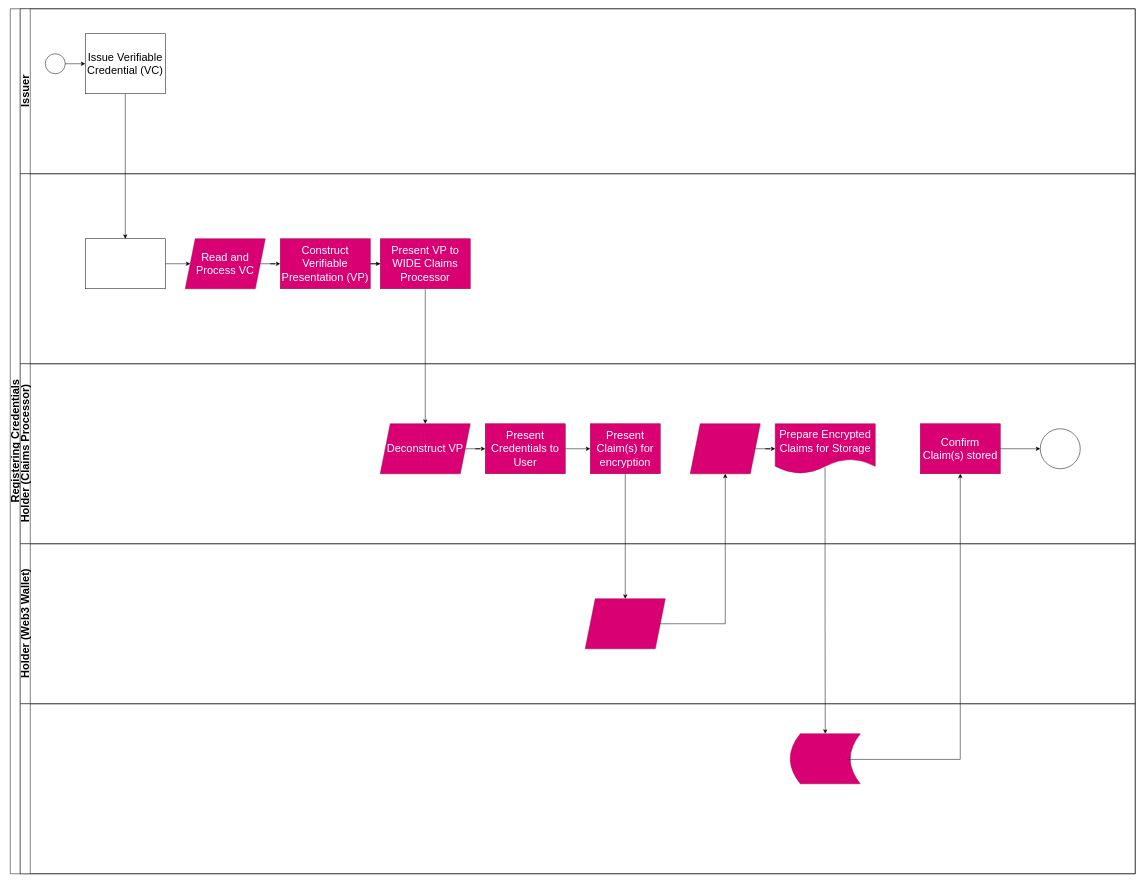
This 1144x883 diagram has some shape labels left out. Here are the shapes that lost their labels. From the top down, the box of each, then its label:
(85, 238, 165, 289): Receive VC in ID Wallet
(20, 173, 1135, 364): Holder (ID Wallet)
(690, 423, 760, 474): Encrypt (using Pub Key)
(585, 598, 665, 649): Get Pub Key
(790, 733, 860, 784): Store Encrypted Claim(s)
(20, 703, 1135, 874): WIDE (Claims Storage Module)
